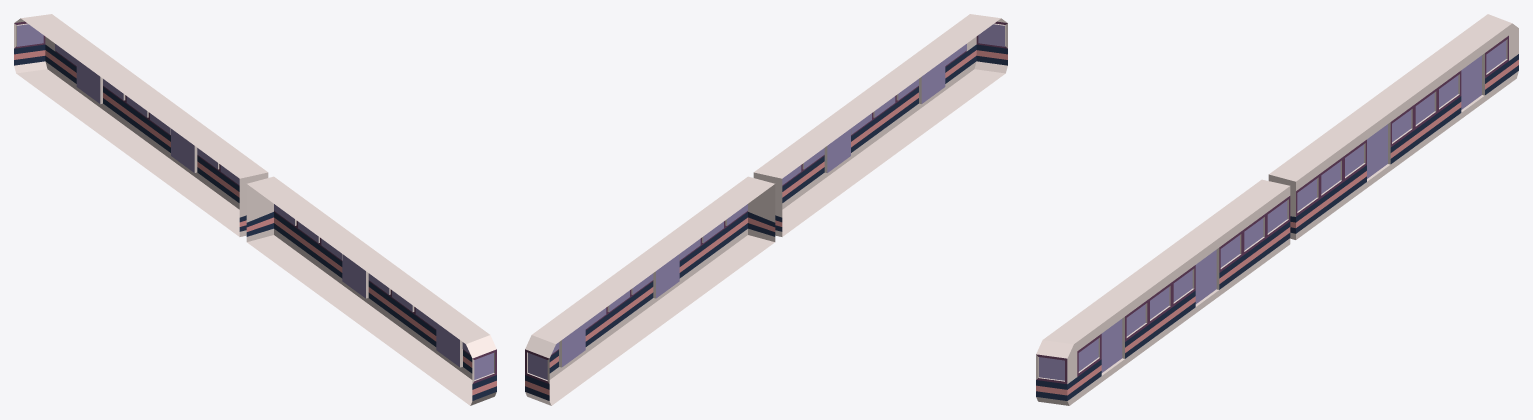
File: train.glb
3 views of the same model, side by side, from view 1: azimuth 30°, elevation 25°; view 2: azimuth 150°, elevation 25°; view 3: azimuth 330°, elevation 25° (orthographic).
Visible parts, largest first — view 1: Cube, Cube.001; view 2: Cube.001, Cube; view 3: Cube, Cube.001.
Part boxes in pixels (x1,y1,x2,y2): Cube: [246, 176, 496, 405]; Cube.001: [14, 14, 268, 236]; Cube.001: [525, 176, 775, 405]; Cube: [753, 14, 1007, 236]; Cube: [1036, 179, 1290, 405]; Cube.001: [1268, 14, 1518, 239].
Bounding box in the file's own units: 1 × 2 × 28.43.
1 material, 1 textured.
